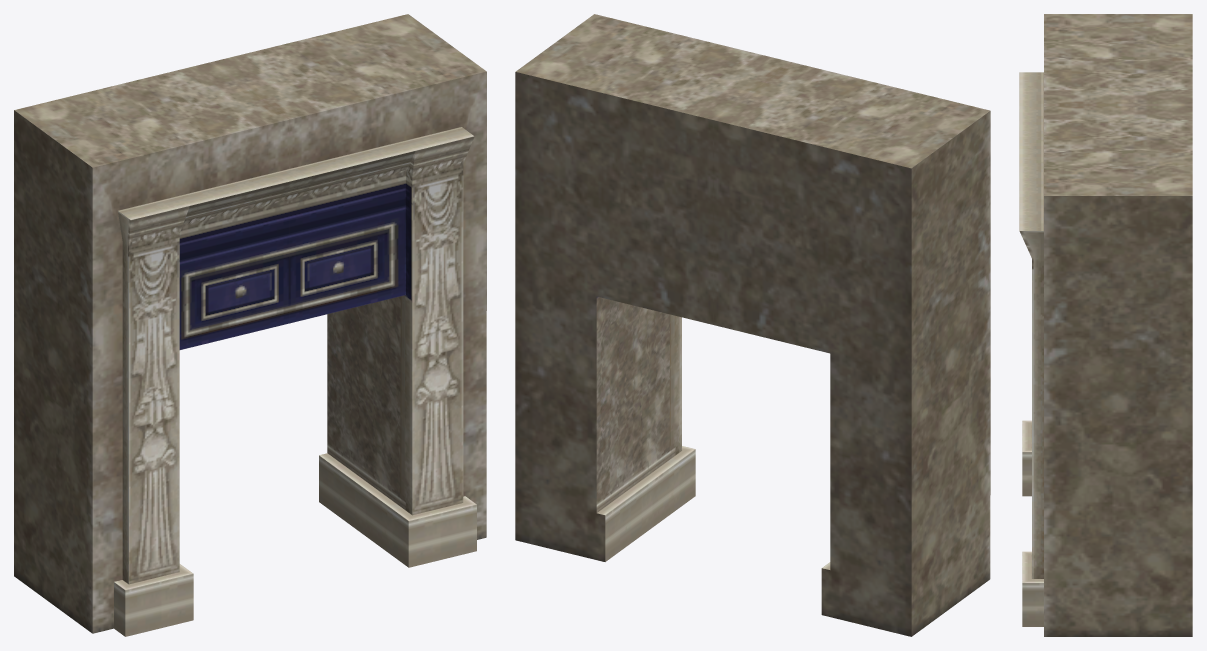
File: furni_0201124.FBX
3 views of the same model, side by side, from view 1: azimuth 30°, elevation 25°; view 2: azimuth 150°, elevation 25°; view 3: azimuth 270°, elevation 25° (orthographic). The views are drawn at different scales.
Parts seen in each view (by area): view 1: furni_0201124; view 2: furni_0201124; view 3: furni_0201124.
Part boxes in pixels (left/top/right/bottom): furni_0201124: left=14, top=14, right=486, bottom=636; furni_0201124: left=515, top=14, right=990, bottom=636; furni_0201124: left=1019, top=14, right=1192, bottom=636.
Size of the model in its own units: 160 by 181 by 64.4.
Materials: 1 (1 with a texture image).
